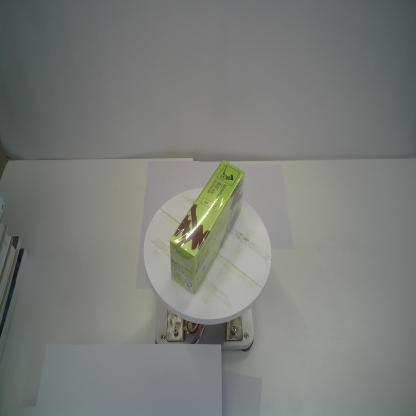Instant Drink: (169, 159, 246, 295)
